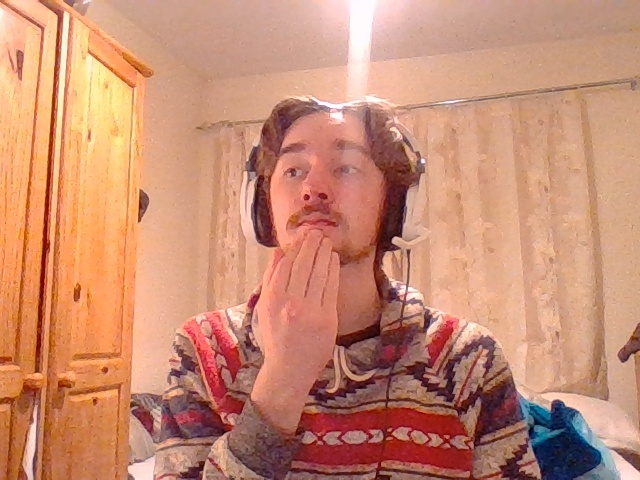thanks: (255, 228, 340, 395)
